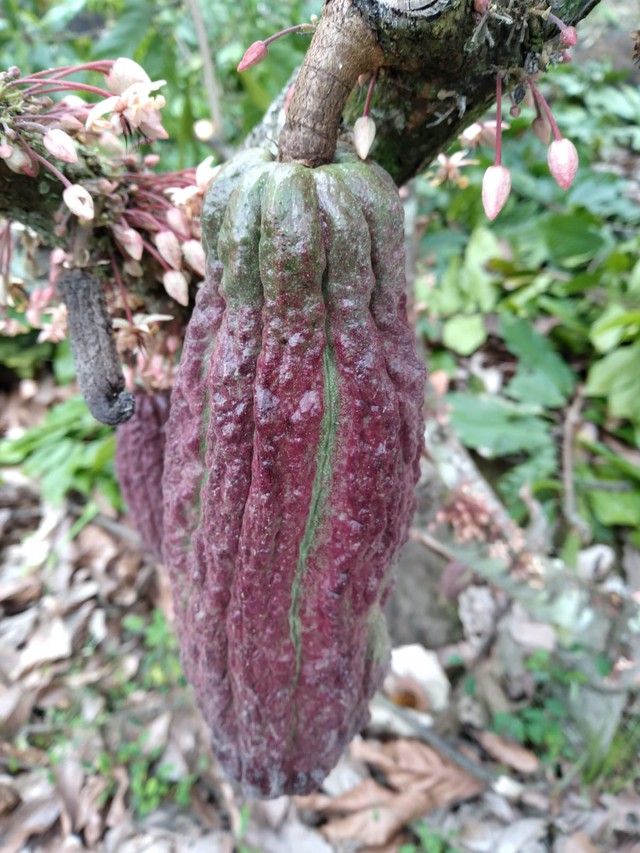Health: (155, 126, 432, 808)
